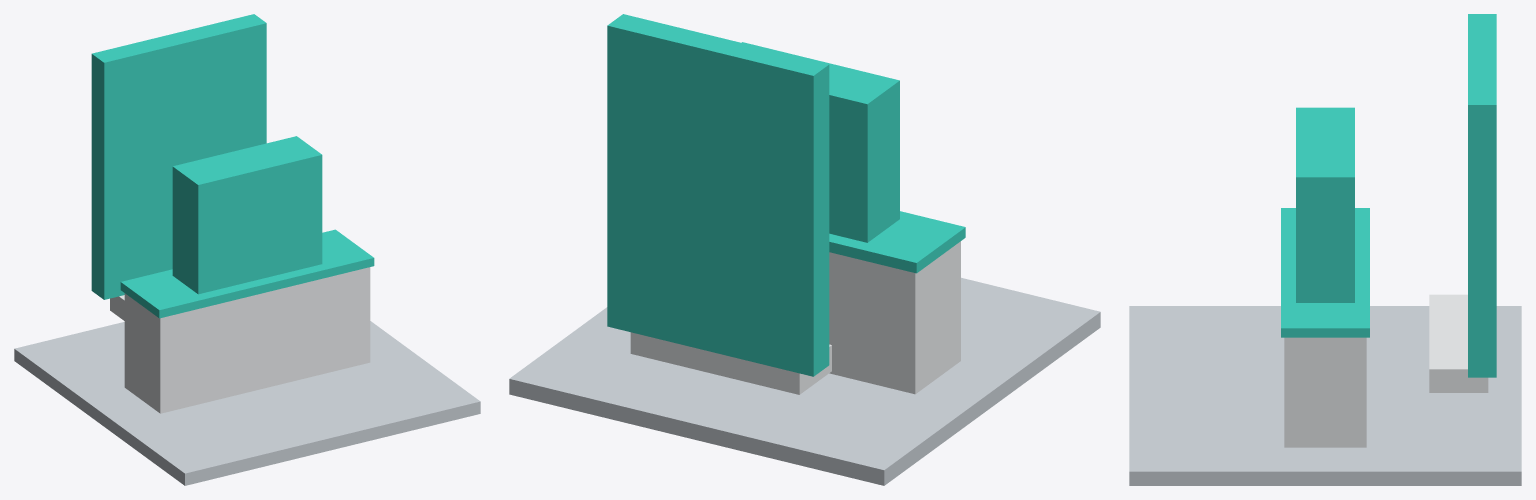
3 views of the same model, side by side, from view 1: azimuth 30°, elevation 25°; view 2: azimuth 150°, elevation 25°; view 3: azimuth 270°, elevation 25° (orthographic). The views are drawn at different scales.
Parts seen in each view (by area): view 1: Exhibition Booth Concept; view 2: Exhibition Booth Concept; view 3: Exhibition Booth Concept.
Boxes of the visible parts, x1,y1,x2,y2 form: Exhibition Booth Concept: [14, 14, 480, 485]; Exhibition Booth Concept: [509, 14, 1100, 485]; Exhibition Booth Concept: [1129, 14, 1521, 485].
Size of the model in its own units: 3 by 2.9 by 3.
